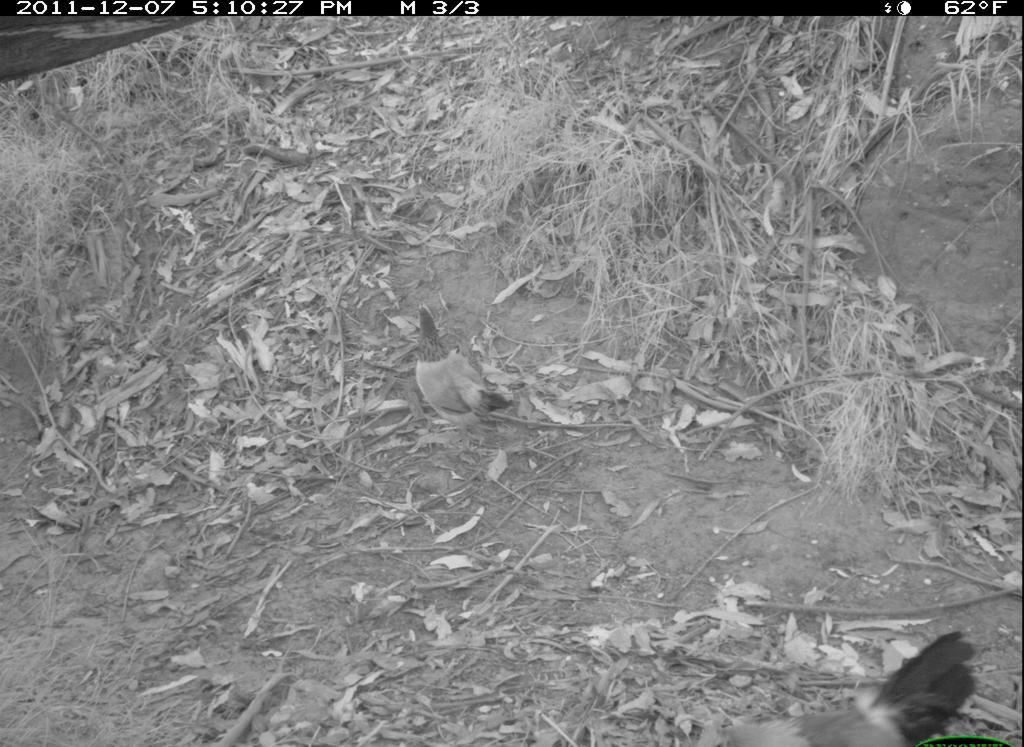bird: (694, 625, 982, 745), (399, 292, 525, 429)
